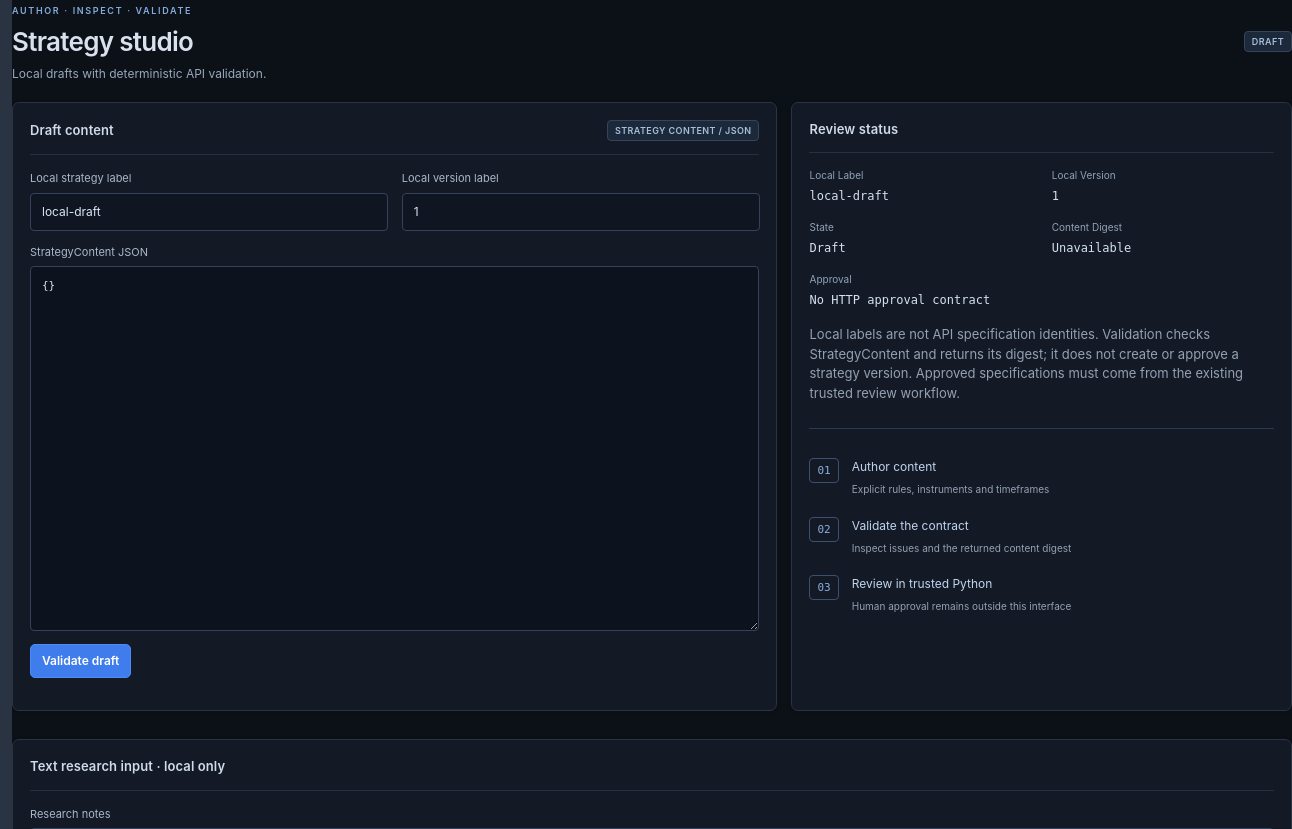
research lifecycle and strategy validation › invalidates validation on local edits and cannot approve
Click the button "Validate draft". click: {"x": 81, "y": 661}
box: [30,644,131,678]
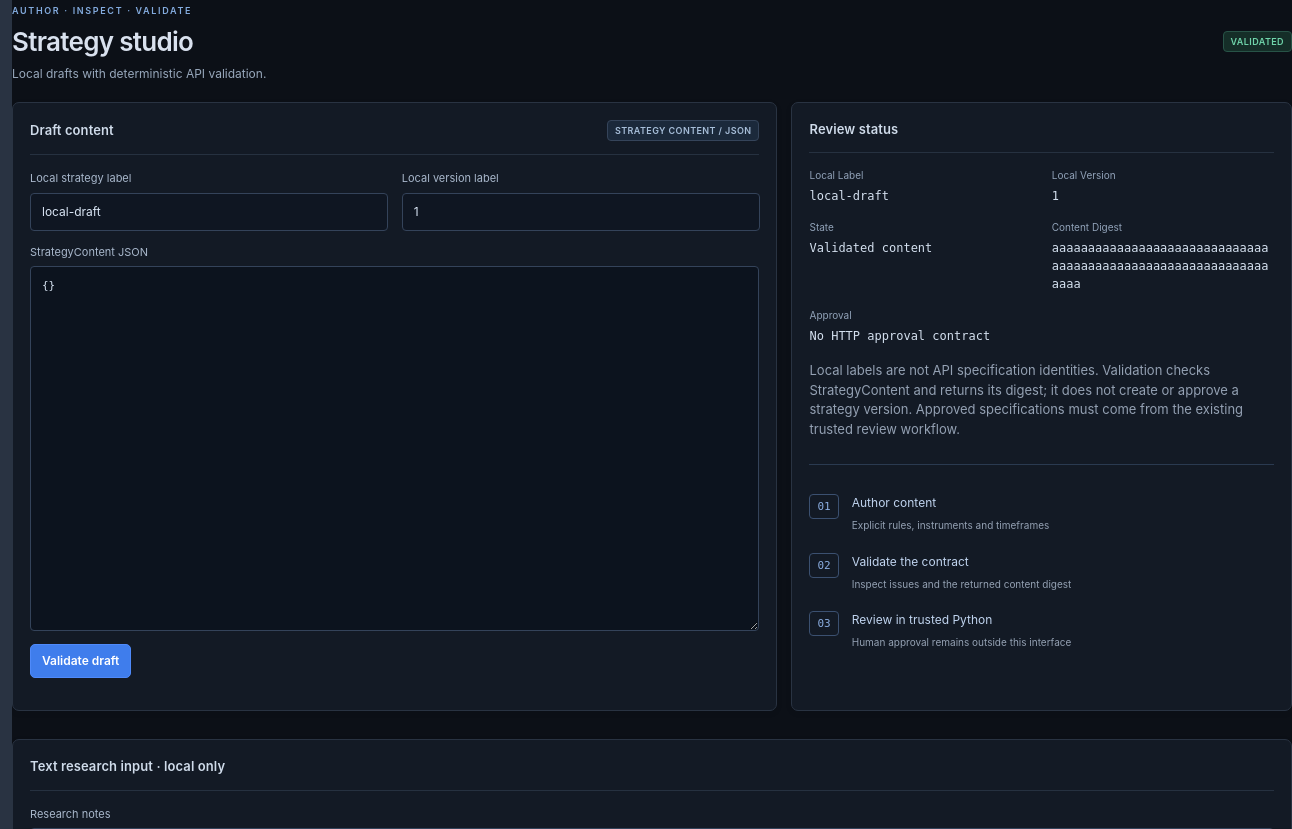
expect the text "VALIDATED" is shown: met, box [1223,31,1291,52]
Type "2" into the number field labelled "Local version label". click: {"x": 581, "y": 212}
box: [402,193,760,231]
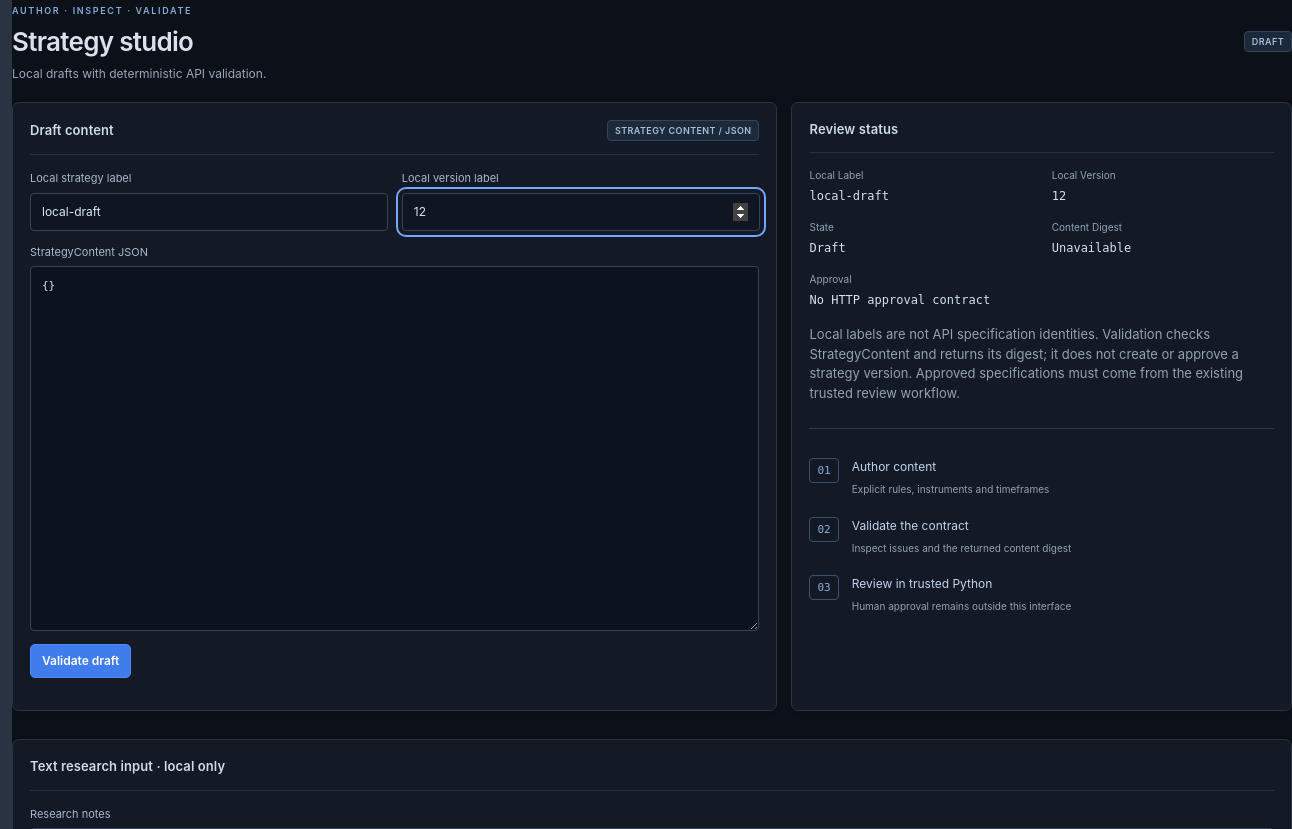
expect the text "DRAFT" is shown: met, box [1244,31,1291,52]
